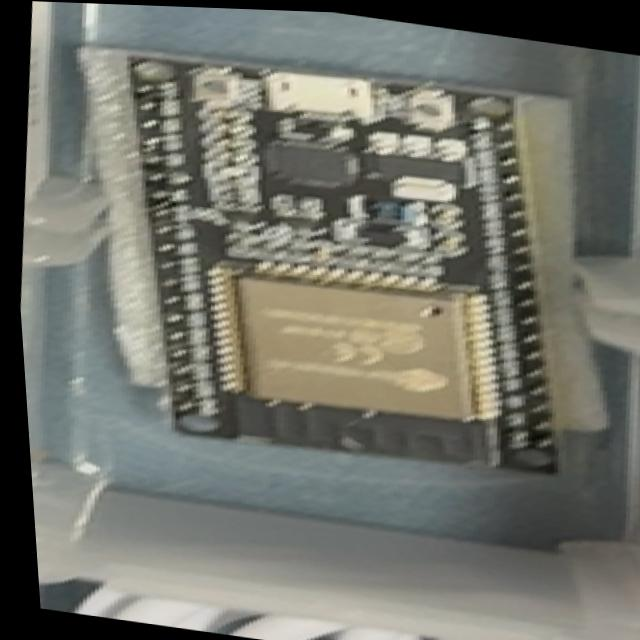ESP32: (81, 36, 595, 491)
